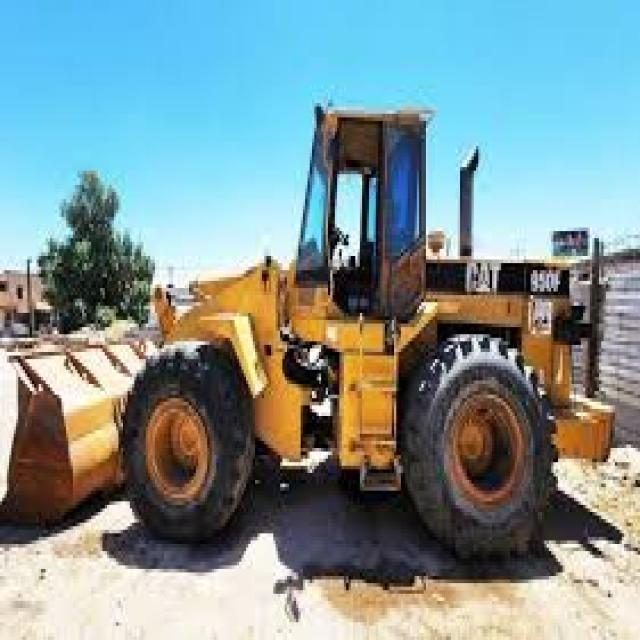buldozerpayloadergrader: (4, 87, 616, 562)
